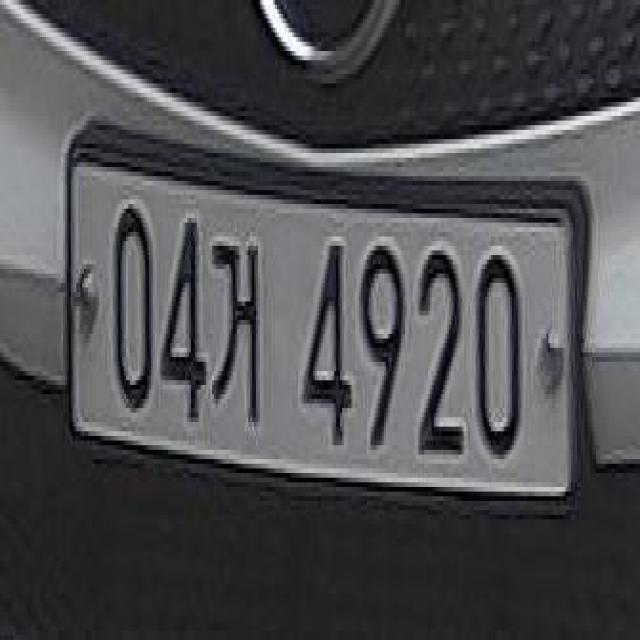illegal_plate: (66, 140, 585, 534)
